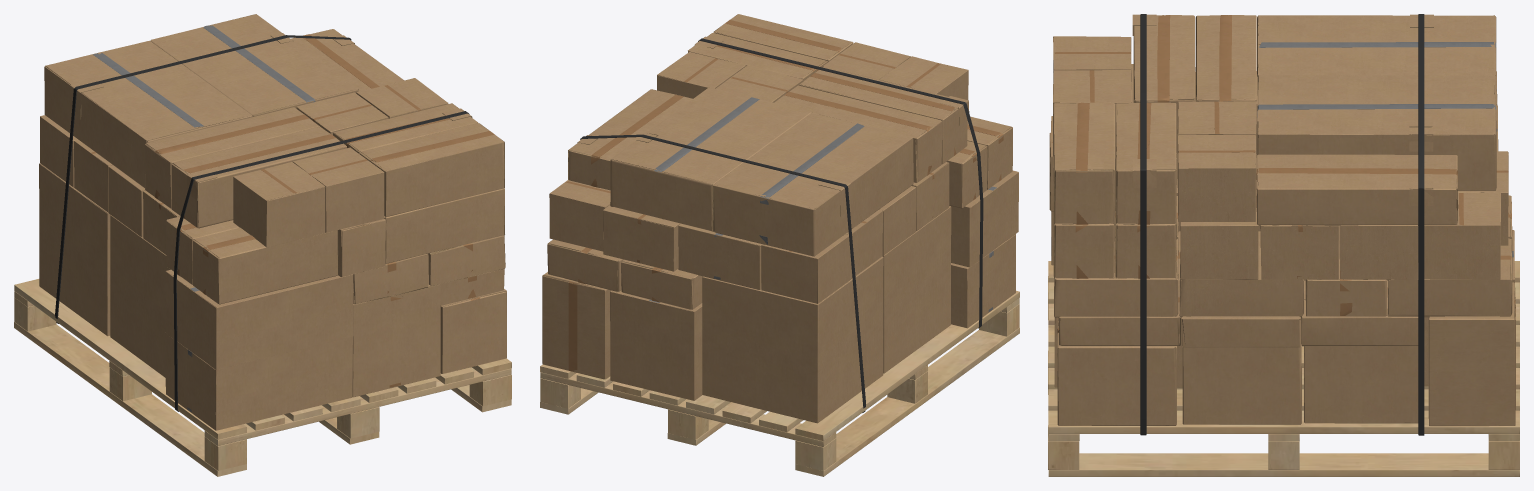
The model's file is pallet_load_b.glb.
The picture shows the model from 3 angles, left to right: view 1: azimuth 30°, elevation 25°; view 2: azimuth 150°, elevation 25°; view 3: azimuth 270°, elevation 25°; orthographic projection. The views are drawn at different scales.
Parts seen in each view (by area): view 1: pallet_load_b_mesh; view 2: pallet_load_b_mesh; view 3: pallet_load_b_mesh.
Boxes of the visible parts, x1,y1,x2,y2 form: pallet_load_b_mesh: (14, 14, 511, 476); pallet_load_b_mesh: (540, 14, 1019, 476); pallet_load_b_mesh: (1048, 14, 1519, 476).
Size of the model in its own units: 1.01 by 0.8663 by 1.2.
4 materials, 3 textured.
